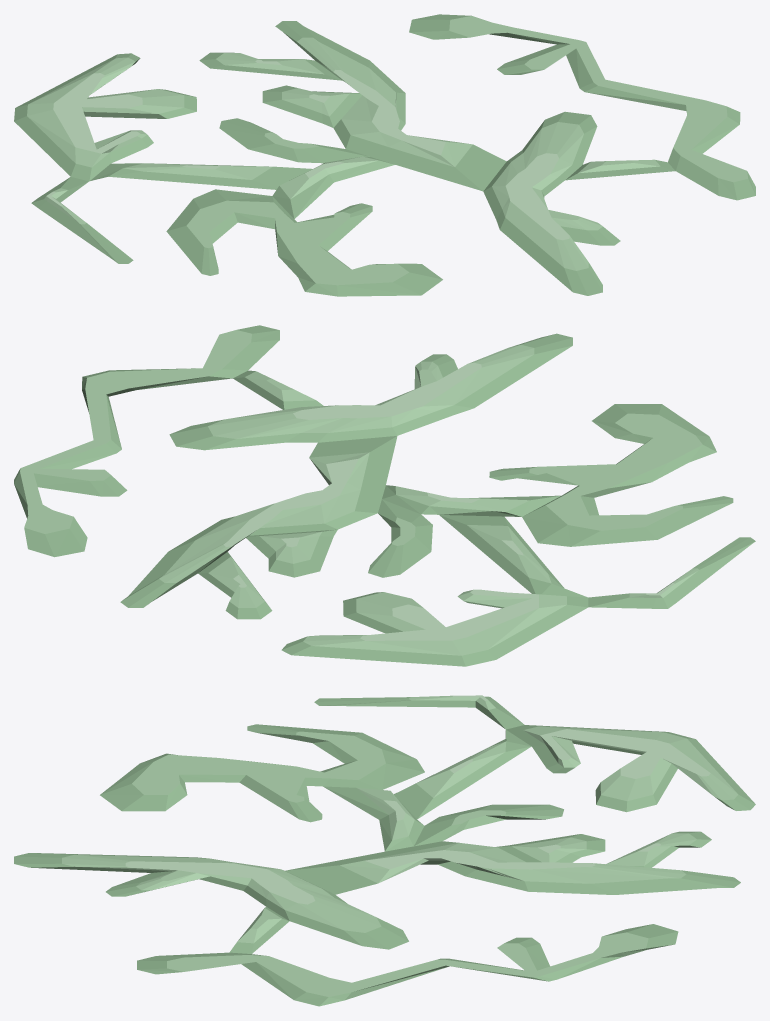
Rendered from Moss.fbx.
3 views of the same model, one above another, from view 1: azimuth 30°, elevation 25°; view 2: azimuth 150°, elevation 25°; view 3: azimuth 270°, elevation 25° (orthographic). The views are drawn at different scales.
Visible parts, largest first — view 1: Moss; view 2: Moss; view 3: Moss.
Boxes of the visible parts, x1,y1,x2,y2 form: Moss: (14, 14, 755, 296); Moss: (14, 325, 755, 666); Moss: (14, 695, 755, 1006).
Bounding box in the file's own units: 7.52 × 0.095 × 7.61.
